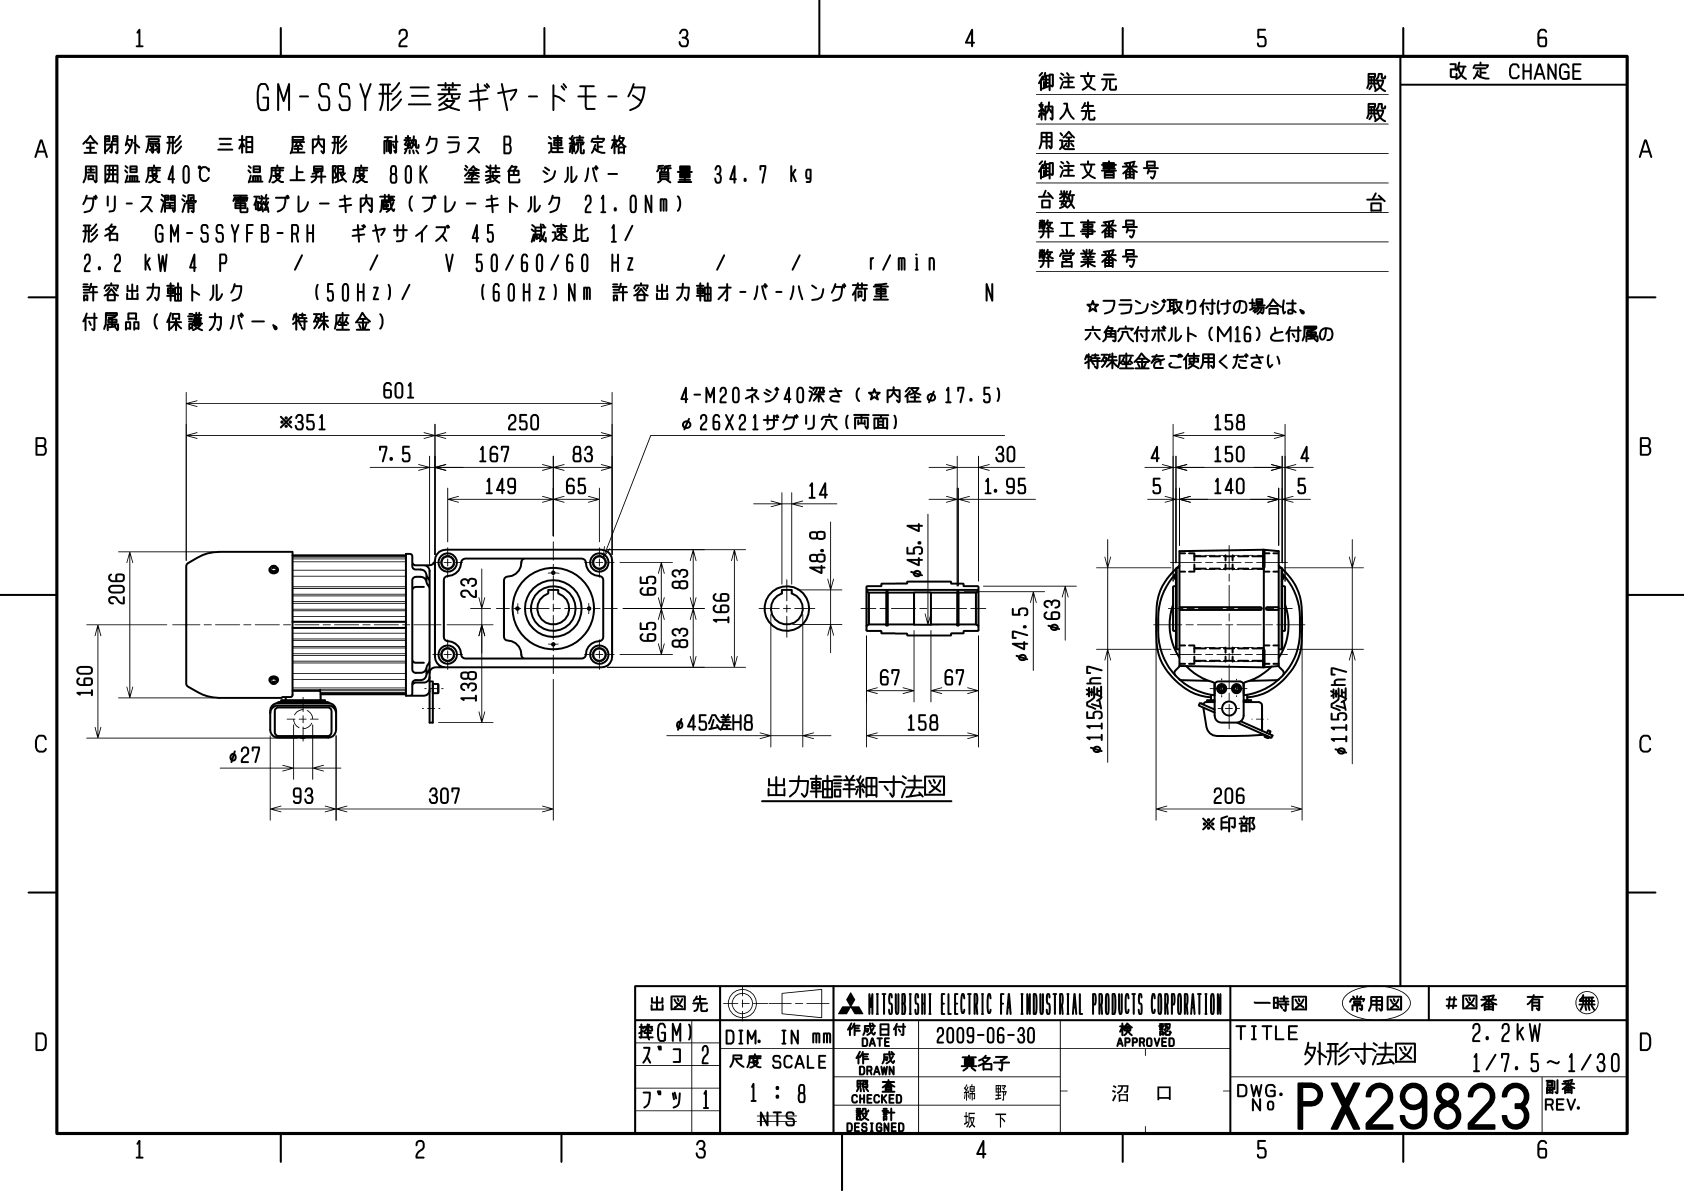GM_SSY_屋内_三相: (1, 1, 1669, 1172)
